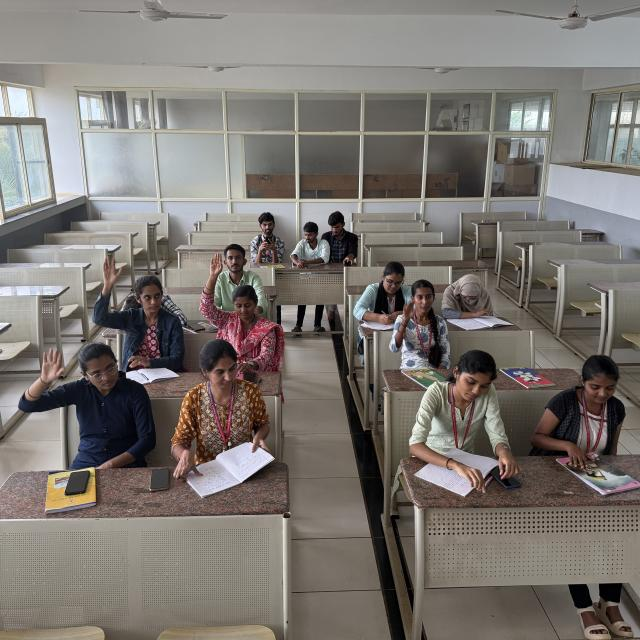Hand Rising: (15, 341, 148, 452), (91, 248, 182, 350), (204, 254, 276, 351)
Reading: (180, 342, 278, 486), (414, 350, 516, 486), (444, 273, 514, 335)
Using Phone: (250, 211, 289, 263), (290, 220, 330, 268)
Writing: (352, 259, 412, 328)
